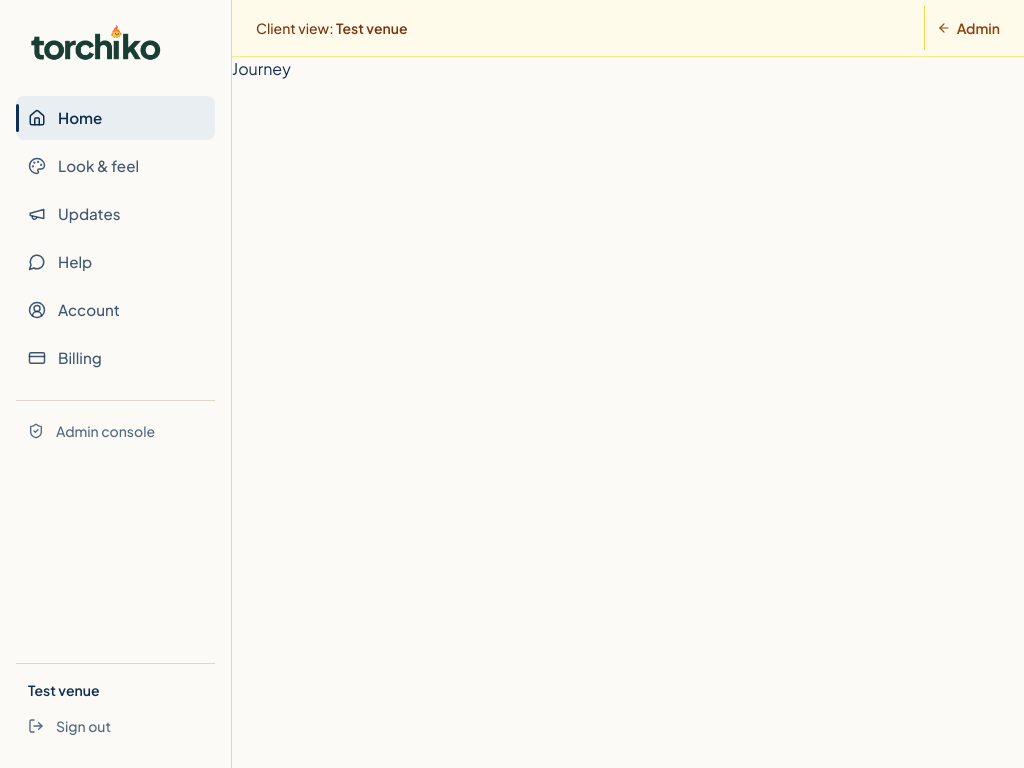
DashboardShell interaction semantics › does not leave client view when the audited stop transition fails
Click the button with aria-label "Open admin console" at x=962, y=28, box [924,6,1000,50]
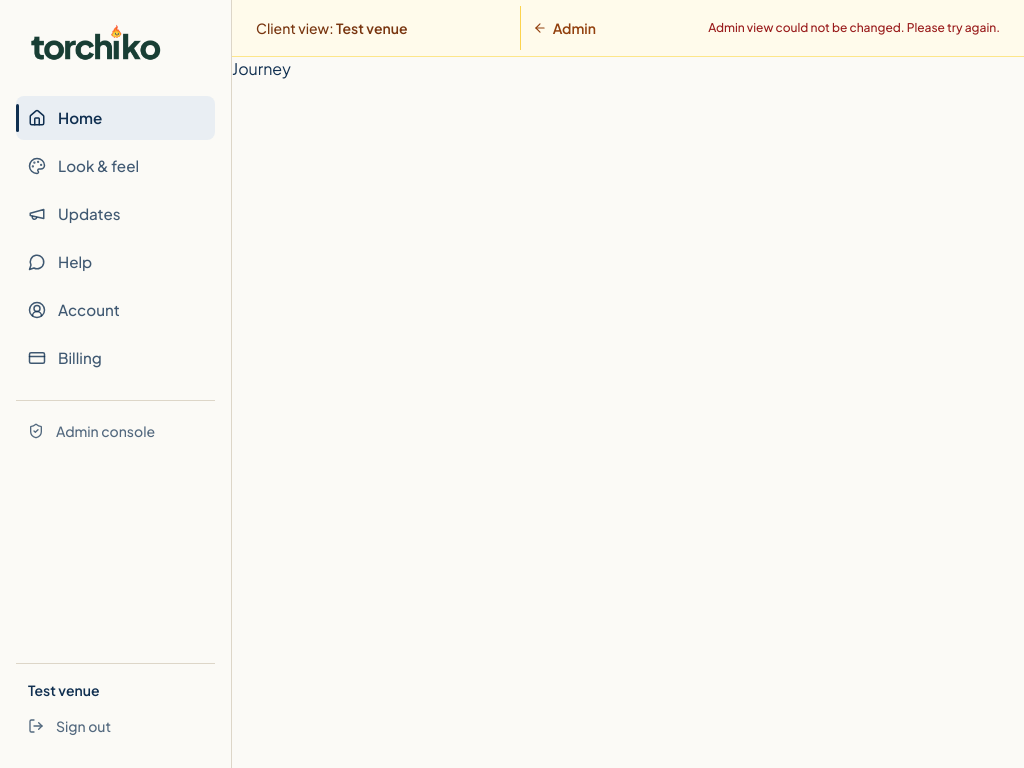
Expected: the button with aria-label "Open admin console" is enabled, [520,6,596,50]
Now the message reads "Admin view could not be changed. Please try again.", box [708,20,1000,35]
